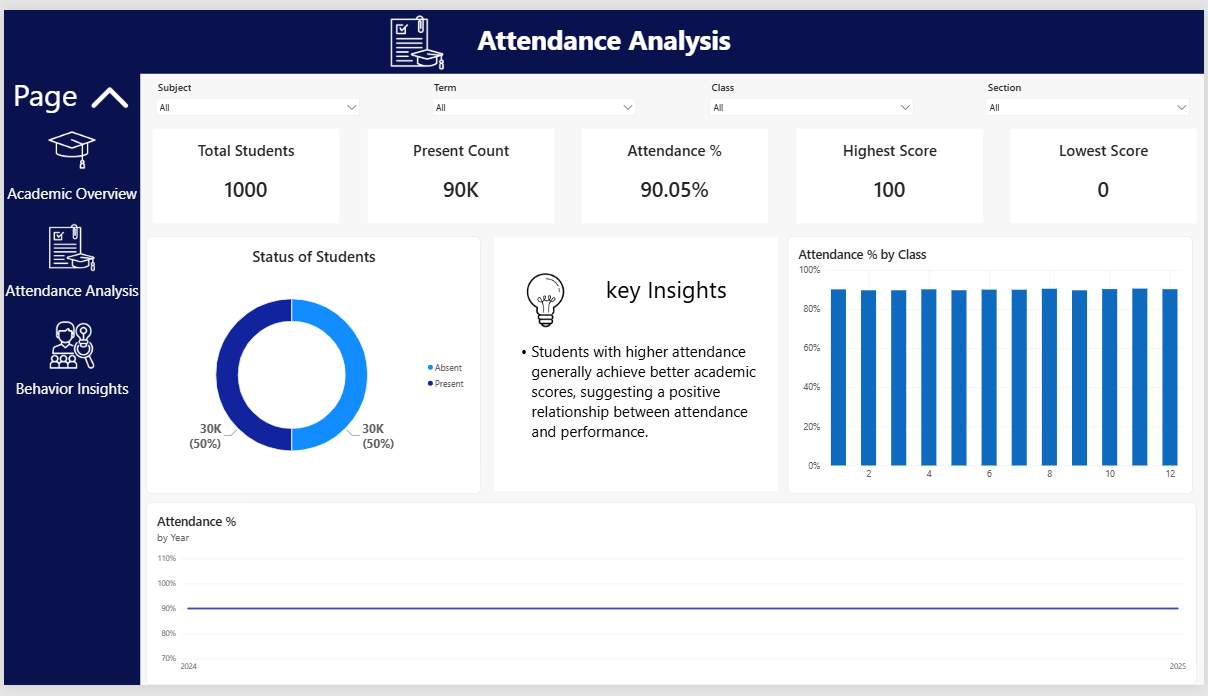

The dashboard page shown, as its layout file describes it:
{"tool":"powerbi","page":{"name":"Attendance Analysis","canvas":[1920,1080],"ordinal":1},"visuals":[{"type":"shape","box":[0,0,1920,102],"z":0,"group":"g14"},{"type":"shape","box":[0,0,218,1080],"z":0,"group":"g11"},{"type":"slicer","fields":{"Values":["Scores.Subject"]},"box":[238,112,336,64],"z":0,"group":"g6"},{"type":"image","box":[54,186,110,76],"z":0,"group":"g8"},{"type":"group","id":"g1","title":"Total students","box":[238,190,298,152],"z":0,"group":"g9"},{"type":"shape","box":[238,190,298.7,151.5],"z":0,"group":"g1"},{"type":"shape","box":[581,190,298.7,151.5],"z":0,"group":"g12"},{"type":"shape","box":[924,190,298.7,151.5],"z":0,"group":"g3"},{"type":"shape","box":[1267,190,298.7,151.5],"z":0,"group":"g10"},{"type":"shape","box":[1610,190,298.7,151.5],"z":0,"group":"g7"},{"type":"image","box":[54,342,110,76],"z":0,"group":"g13"},{"type":"donutChart","title":"Status of Students","fields":{"Category":["Attendance.Status"],"Y":["CountNonNull(Scores.StudentID)"]},"box":[228,362,534,412],"z":0,"group":"g4"},{"type":"shape","box":[784,364,454,406],"z":0,"group":"g2"},{"type":"group","id":"g2","title":"Key Insights","box":[784,364,454,406],"z":0},{"type":"image","box":[54,498,110,76],"z":0,"group":"g15"},{"type":"textbox","box":[746,18,428,70],"z":1000,"group":"g14"},{"type":"image","title":"up","box":[110,98,118,88],"z":1000,"group":"g5"},{"type":"textbox","box":[0,102,132,78],"z":1000,"group":"g11"},{"type":"slicer","fields":{"Values":["Scores.Term"]},"box":[680.7,112,336,64],"z":1000,"group":"g6"},{"type":"group","id":"g3","title":"Attendance %","box":[924,190,298,152],"z":1000,"group":"g9"},{"type":"cardVisual","title":"Total Students","fields":{"Data":["Measures Table.Total Students"]},"box":[238,207.3,298.7,110.4],"z":1000,"group":"g1"},{"type":"cardVisual","title":"Present Count","fields":{"Data":["Measures Table.Present Count"]},"box":[581,207.3,298.7,110.4],"z":1000,"group":"g12"},{"type":"cardVisual","title":"Attendance %","fields":{"Data":["Measures Table.Attendance %"]},"box":[924,207.3,298.7,110.4],"z":1000,"group":"g3"},{"type":"cardVisual","title":" Highest Score","fields":{"Data":["Measures Table.Highest Score"]},"box":[1267,207.3,298.7,110.4],"z":1000,"group":"g10"},{"type":"cardVisual","title":"Lowest Score","fields":{"Data":["Measures Table.Lowest Score"]},"box":[1610,207.3,298.7,110.4],"z":1000,"group":"g7"},{"type":"textbox","box":[0,276,218,52],"z":1000,"group":"g8"},{"type":"group","id":"g4","title":"Visuals","box":[228,362,1680,718],"z":1000},{"type":"clusteredColumnChart","fields":{"Category":["Students.Class"],"Y":["Measures Table.Attendance %"]},"box":[1254,362,648,412],"z":1000,"group":"g4"},{"type":"textbox","box":[906,420,307.2,72.8],"z":1000,"group":"g2"},{"type":"textbox","box":[0,432,218,52],"z":1000,"group":"g13"},{"type":"textbox","box":[0,588,218,52],"z":1000,"group":"g15"},{"type":"image","box":[602,8,118,88],"z":2000,"group":"g14"},{"type":"group","id":"g5","title":"Navigation","box":[110,98,118,92],"z":2000,"group":"g11"},{"type":"group","id":"g6","title":"Slicers","box":[238,112,1664,64],"z":2000},{"type":"slicer","fields":{"Values":["Students.Class"]},"box":[1123.3,112,336,64],"z":2000,"group":"g6"},{"type":"actionButton","box":[0,186,218,142],"z":2000,"group":"g8"},{"type":"group","id":"g7","title":"Lowest Score","box":[1610,190,298,152],"z":2000,"group":"g9"},{"type":"actionButton","box":[10,328,218,142],"z":2000,"group":"g13"},{"type":"image","box":[808.8,400.4,115.2,128.8],"z":2000,"group":"g2"},{"type":"actionButton","box":[0,484,218,142],"z":2000,"group":"g15"},{"type":"lineChart","fields":{"Category":["Behavior.Date.Variation.Date Hierarchy.Year","Behavior.Date.Variation.Date Hierarchy.Quarter","Behavior.Date.Variation.Date Hierarchy.Month","Behavior.Date.Variation.Date Hierarchy.Day"],"Y":["Measures Table.Attendance %"]},"box":[228,788,1680,292],"z":2000,"group":"g4"},{"type":"slicer","fields":{"Values":["Students.Section"]},"box":[1566,112,336,64],"z":3000,"group":"g6"},{"type":"group","id":"g8","title":"Academic Overview","box":[0,186,218,142],"z":3000,"group":"g11"},{"type":"group","id":"g9","title":"KPI","box":[238,190,1670,152],"z":3000},{"type":"group","id":"g10","title":" Highest Score","box":[1267,190,298,152],"z":3000,"group":"g9"},{"type":"textbox","box":[808.8,529.2,404.3,218.4],"z":3000,"group":"g2"},{"type":"group","id":"g11","title":"Side bar","box":[0,0,228,1080],"z":4000},{"type":"group","id":"g12","title":"Present Count","box":[581,190,298,152],"z":4000,"group":"g9"},{"type":"group","id":"g13","title":"Attendance analysis","box":[0,328,228,156],"z":4000,"group":"g11"},{"type":"group","id":"g14","title":"top bar","box":[0,0,1920,102],"z":5000},{"type":"group","id":"g15","title":"Behaviour Insights","box":[0,484,218,156],"z":5000,"group":"g11"}]}

Visuals, with their boxes on the page's 1920x1080 design canvas (x1, y1, x2, y2). These are canvas units, not pixel positions in the 1208x696 screenshot, which may show the page scaled, cropped or inside an application window:
shape: detection(0, 0, 1920, 102)
shape: detection(0, 0, 218, 1080)
slicer - Scores.Subject: detection(238, 112, 574, 176)
image: detection(54, 186, 164, 262)
"Total students" group: detection(238, 190, 536, 342)
shape: detection(238, 190, 537, 342)
shape: detection(581, 190, 880, 342)
shape: detection(924, 190, 1223, 342)
shape: detection(1267, 190, 1566, 342)
shape: detection(1610, 190, 1909, 342)
image: detection(54, 342, 164, 418)
"Status of Students" donutChart: detection(228, 362, 762, 774)
shape: detection(784, 364, 1238, 770)
"Key Insights" group: detection(784, 364, 1238, 770)
image: detection(54, 498, 164, 574)
textbox: detection(746, 18, 1174, 88)
"up" image: detection(110, 98, 228, 186)
textbox: detection(0, 102, 132, 180)
slicer - Scores.Term: detection(681, 112, 1017, 176)
"Attendance %" group: detection(924, 190, 1222, 342)
"Total Students" cardVisual: detection(238, 207, 537, 318)
"Present Count" cardVisual: detection(581, 207, 880, 318)
"Attendance %" cardVisual: detection(924, 207, 1223, 318)
" Highest Score" cardVisual: detection(1267, 207, 1566, 318)
"Lowest Score" cardVisual: detection(1610, 207, 1909, 318)
textbox: detection(0, 276, 218, 328)
"Visuals" group: detection(228, 362, 1908, 1080)
clusteredColumnChart - Students.Class x Measures Table.Attendance %: detection(1254, 362, 1902, 774)
textbox: detection(906, 420, 1213, 493)
textbox: detection(0, 432, 218, 484)
textbox: detection(0, 588, 218, 640)
image: detection(602, 8, 720, 96)
"Navigation" group: detection(110, 98, 228, 190)
"Slicers" group: detection(238, 112, 1902, 176)
slicer - Students.Class: detection(1123, 112, 1459, 176)
actionButton: detection(0, 186, 218, 328)
"Lowest Score" group: detection(1610, 190, 1908, 342)
actionButton: detection(10, 328, 228, 470)
image: detection(809, 400, 924, 529)
actionButton: detection(0, 484, 218, 626)
lineChart - Behavior.Date.Variation.Date Hierarchy.Year x Behavior.Date.Variation.Date Hierarchy.Quarter: detection(228, 788, 1908, 1080)
slicer - Students.Section: detection(1566, 112, 1902, 176)
"Academic Overview" group: detection(0, 186, 218, 328)
"KPI" group: detection(238, 190, 1908, 342)
" Highest Score" group: detection(1267, 190, 1565, 342)
textbox: detection(809, 529, 1213, 748)
"Side bar" group: detection(0, 0, 228, 1080)
"Present Count" group: detection(581, 190, 879, 342)
"Attendance analysis" group: detection(0, 328, 228, 484)
"top bar" group: detection(0, 0, 1920, 102)
"Behaviour Insights" group: detection(0, 484, 218, 640)
